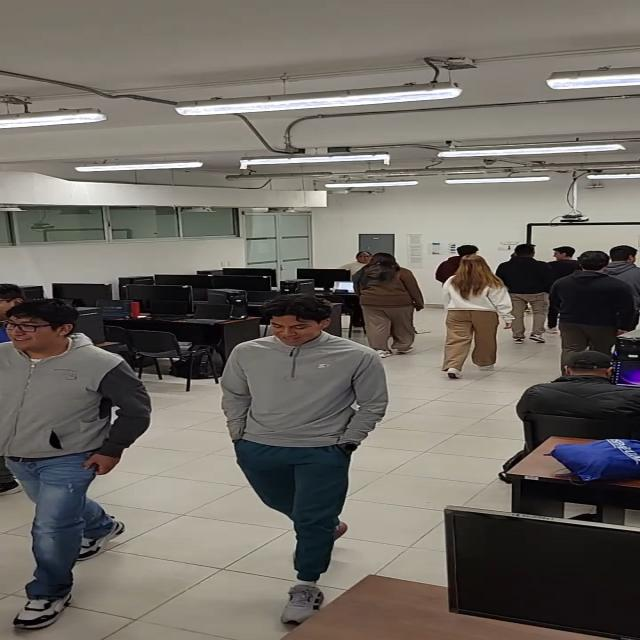Persona: (211, 294, 394, 628), (0, 295, 159, 631), (558, 248, 634, 368), (432, 252, 504, 378), (349, 250, 422, 356), (502, 243, 556, 344)
